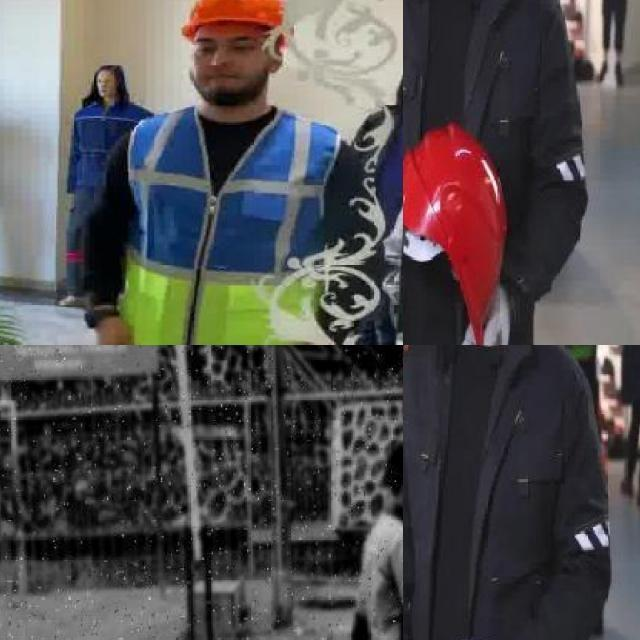apron: (460, 289, 509, 345)
